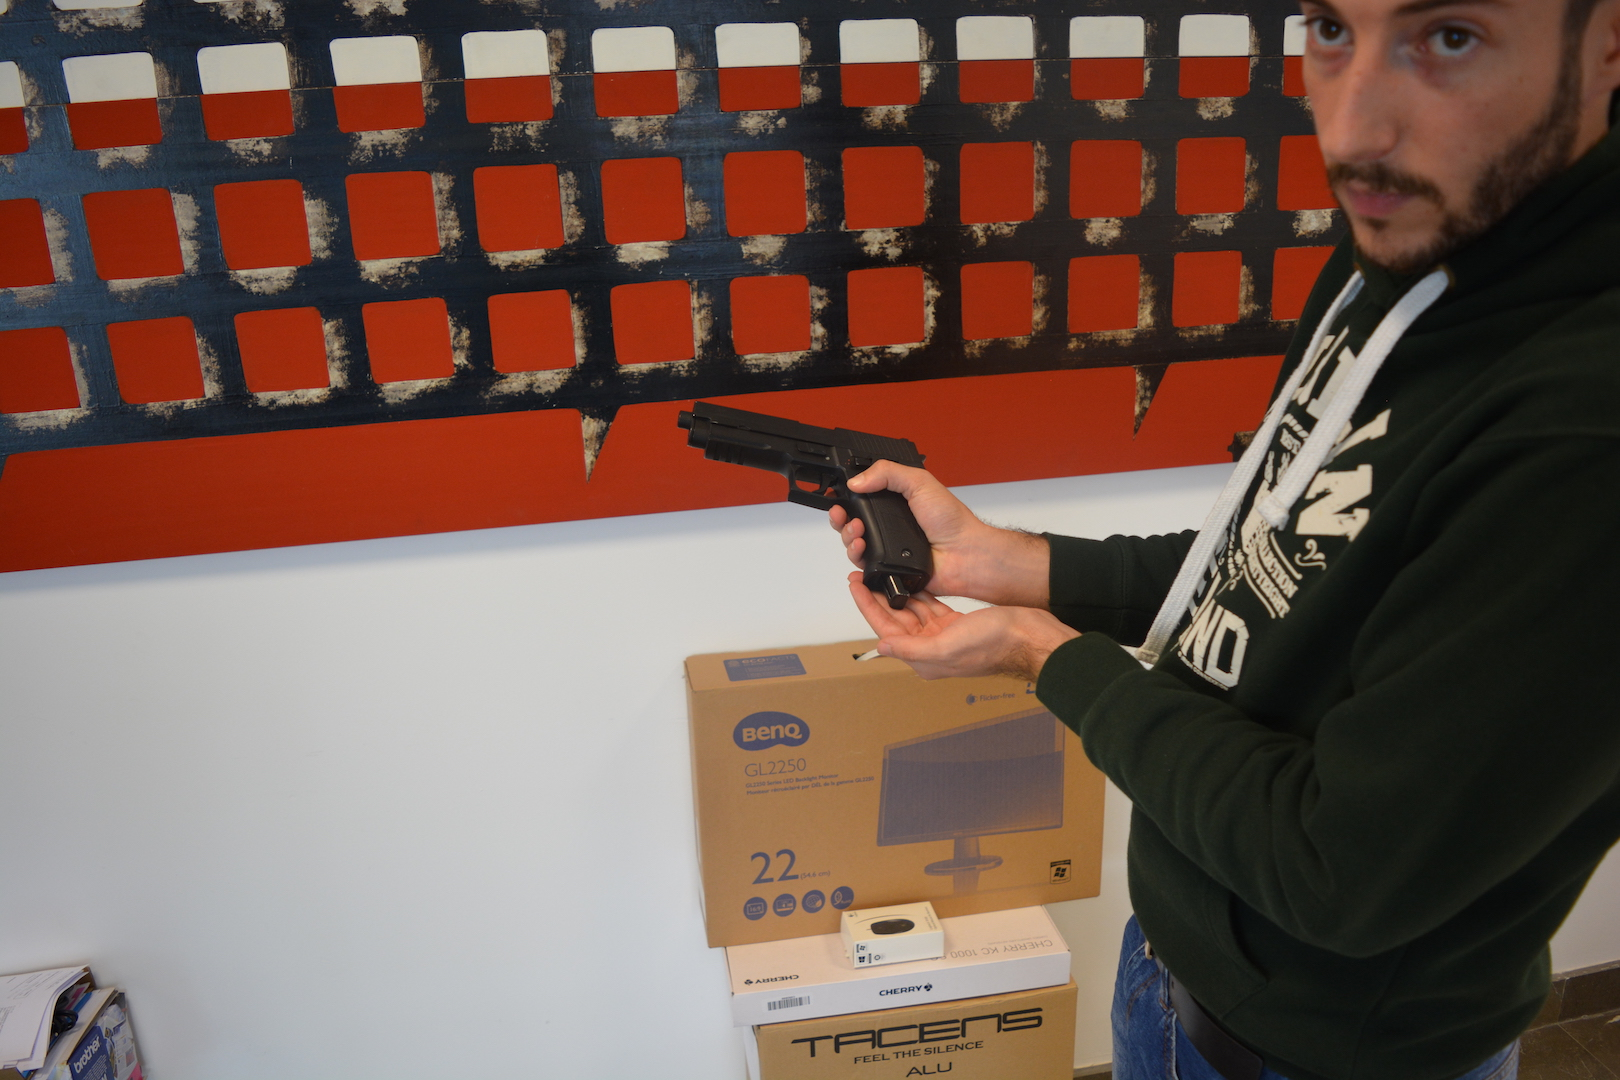pistol: (676, 400, 934, 607)
